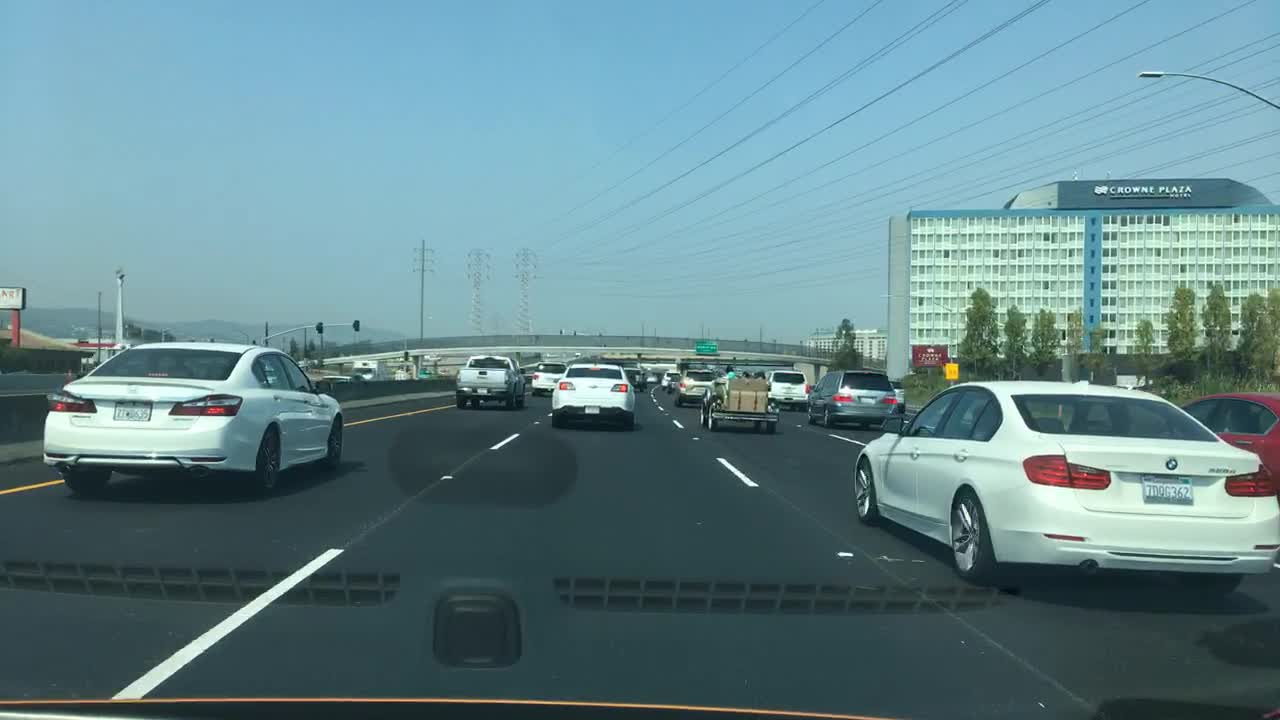car: (853, 380, 1278, 599), (36, 341, 343, 501), (1183, 390, 1277, 486), (548, 363, 638, 431), (698, 375, 779, 434)
rider: (725, 365, 734, 380)
traffic light: (313, 323, 325, 335), (351, 319, 361, 332)
traffic sign: (695, 339, 716, 353), (944, 362, 959, 380)
truck: (803, 368, 899, 429), (454, 353, 526, 410), (767, 368, 807, 410), (671, 365, 713, 404), (530, 359, 569, 395), (351, 359, 393, 383), (887, 381, 908, 414), (622, 365, 647, 392), (662, 369, 680, 387), (647, 371, 659, 383)
